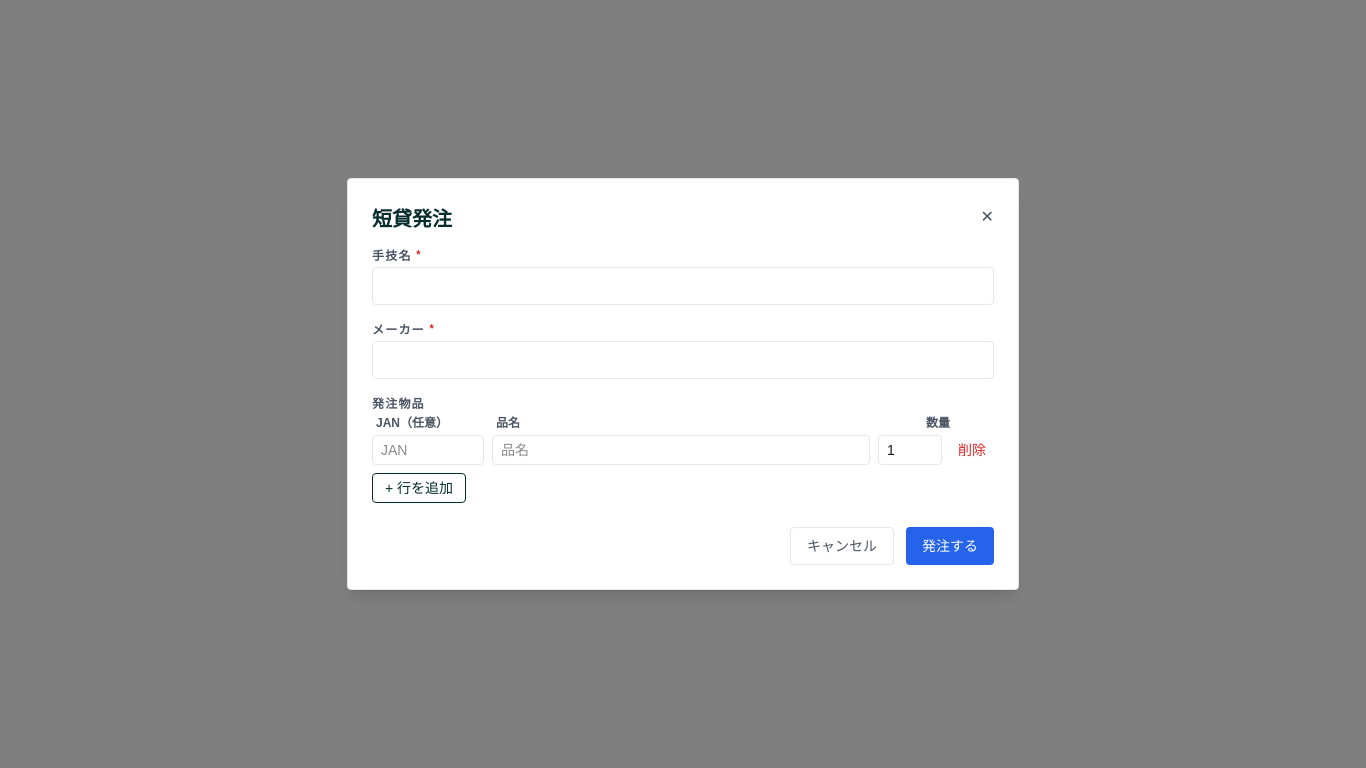
Test case: LoanOrderModal 空送信防止 › 手技名・メーカー空のまま送信するとfetchが呼ばれずエラーが表示される
The width and height of the screenshot is (1366, 768).
Click the button "発注する" at [950, 546], box [906,527,994,565]
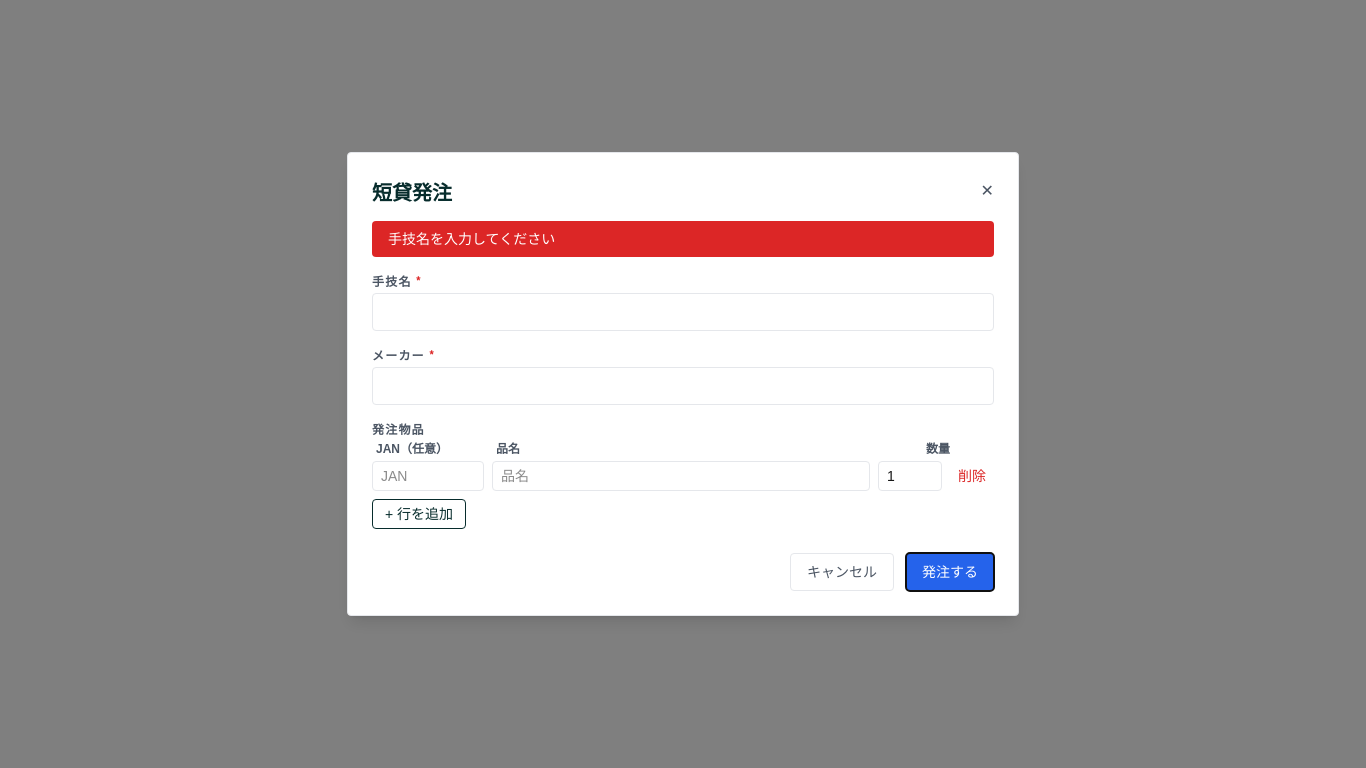
Result: the text "手技名を入力してください" is shown at [372,221,994,257]
